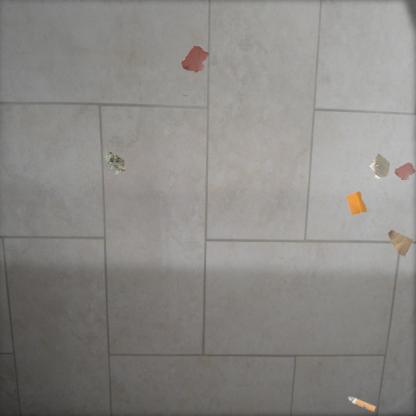dirty: (386, 228, 416, 258), (367, 152, 392, 182), (103, 149, 127, 177), (345, 189, 369, 217), (347, 395, 377, 414)
liquid: (180, 45, 210, 74), (394, 161, 415, 180)
